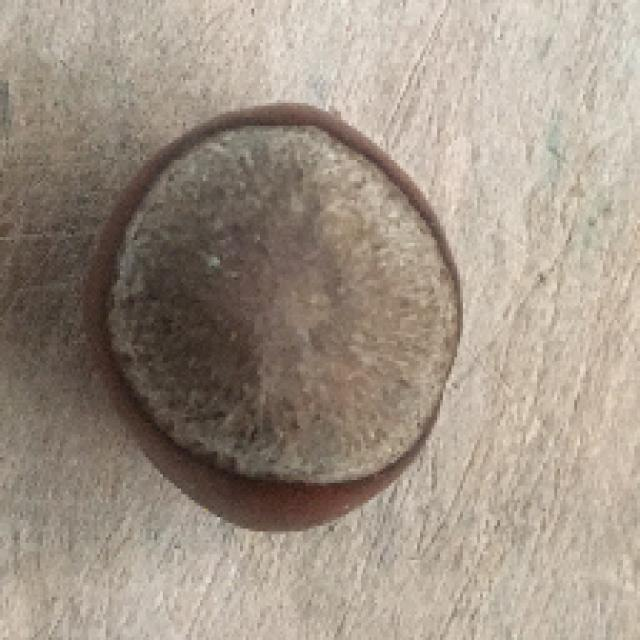qualityHazelnut: (81, 98, 467, 534)
